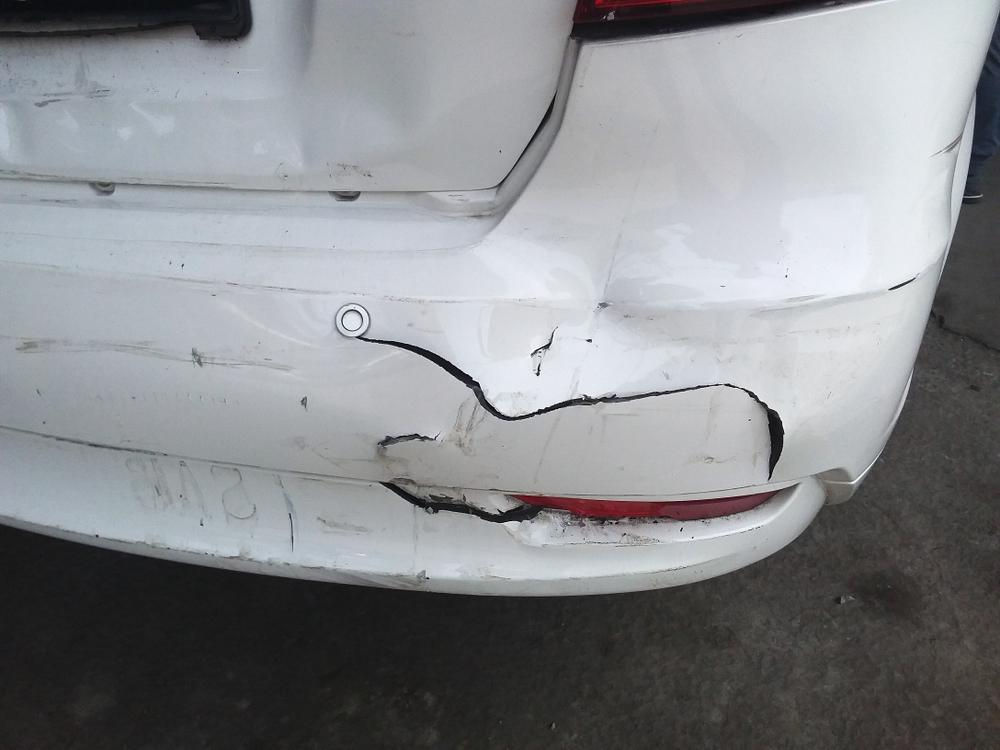crack: (348, 337, 787, 488), (373, 474, 546, 526), (377, 430, 445, 447)
dent: (460, 226, 728, 411), (262, 31, 433, 170)
scratch: (15, 337, 293, 371)
